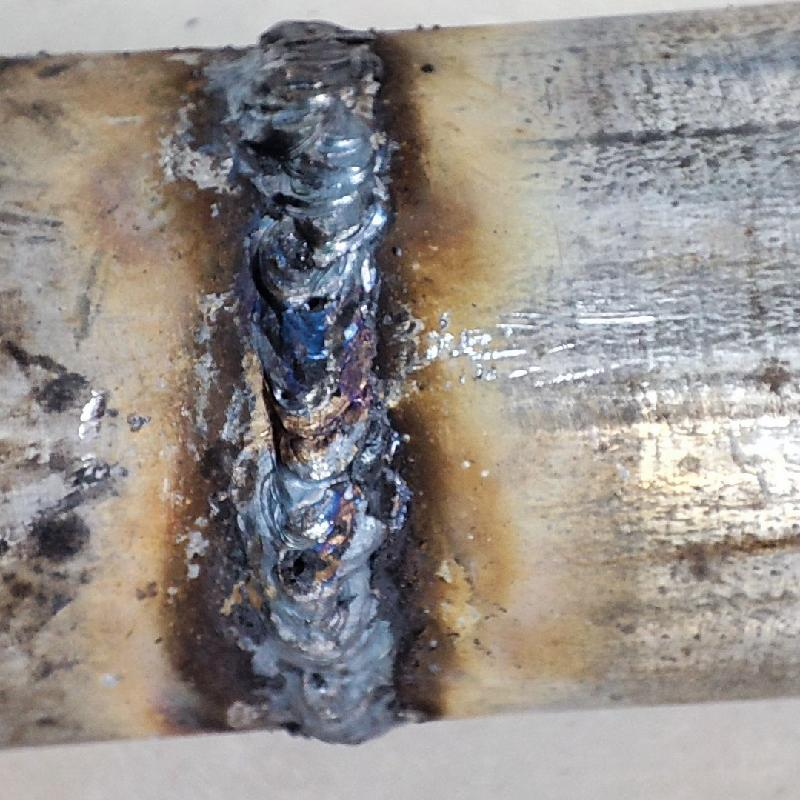Surface_pores: (278, 540, 337, 589), (286, 277, 343, 320)
